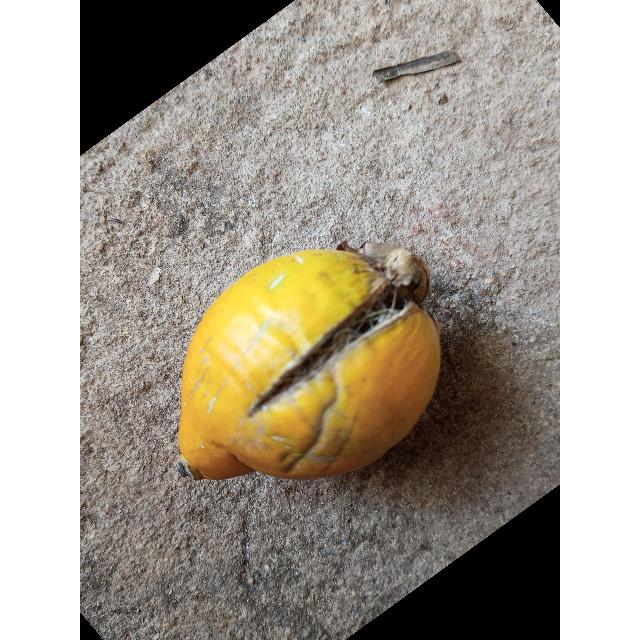damaged: (178, 246, 442, 482)
